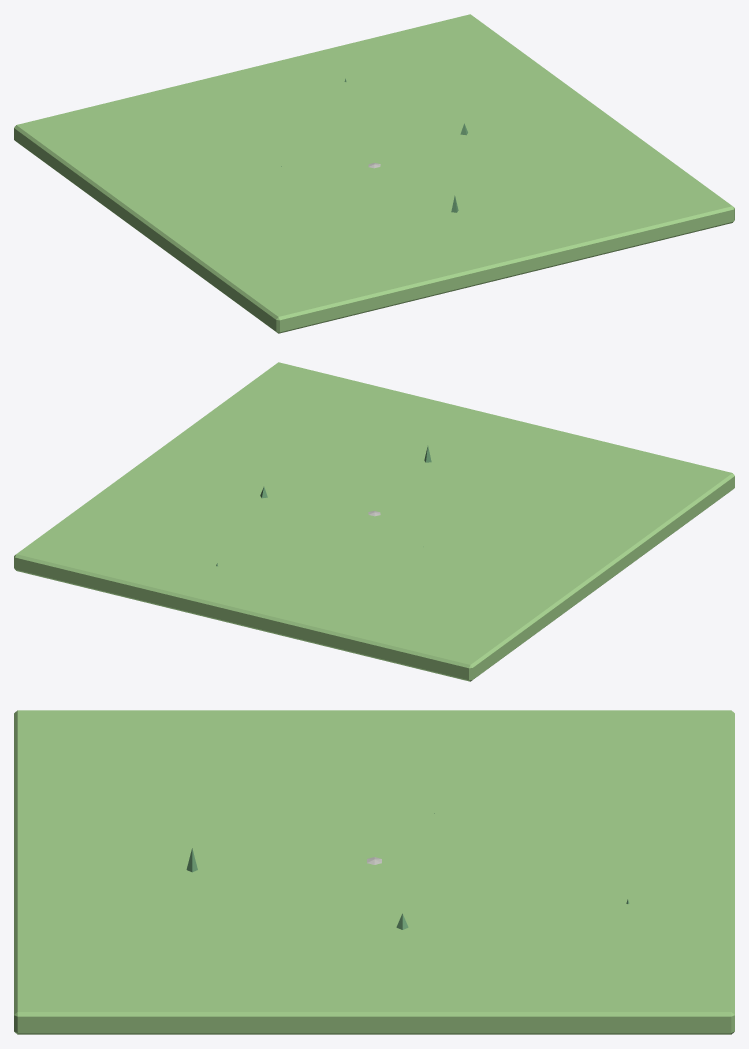
The model's file is town_grass_ground_tile.glb.
3 renders of one model, top to bottom at view 1: azimuth 30°, elevation 25°; view 2: azimuth 150°, elevation 25°; view 3: azimuth 270°, elevation 25°, orthographic. The views are drawn at different scales.
Parts seen in each view (by area): view 1: world; view 2: world; view 3: world.
Boxes of the visible parts, x1,y1,x2,y2 form: world: (14,14,734,333); world: (14,362,734,681); world: (14,710,734,1034).
Size of the model in its own units: 2 by 0.207 by 2.
